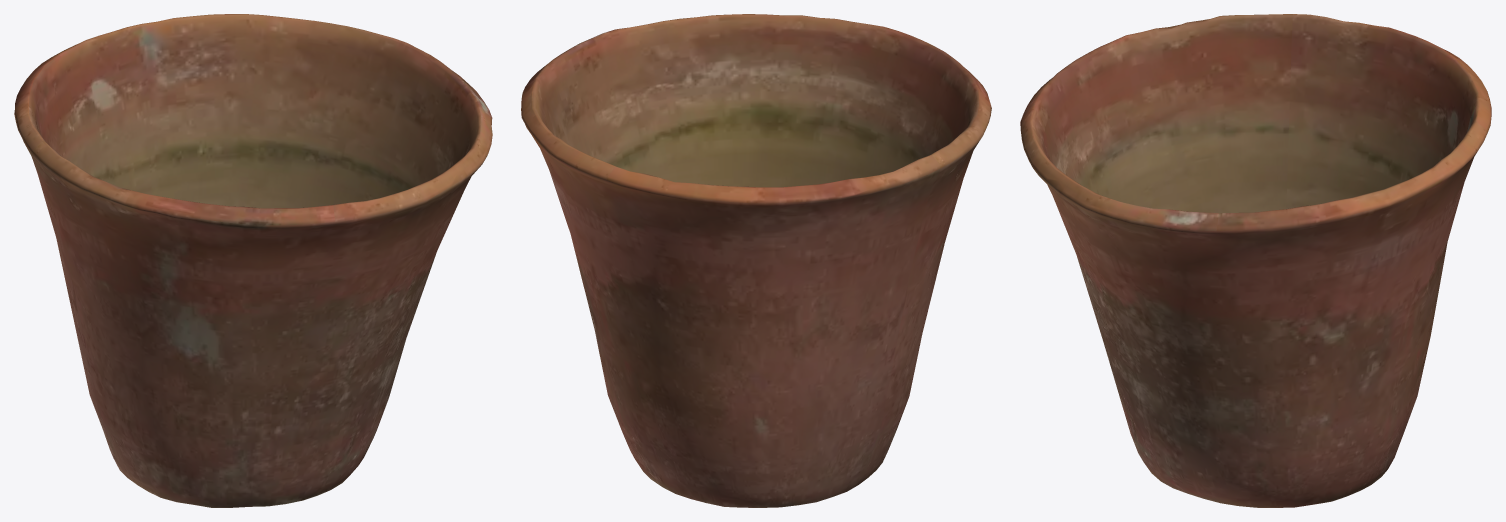
File: planter_pot_clay.glb
3 views of the same model, side by side, from view 1: azimuth 30°, elevation 25°; view 2: azimuth 150°, elevation 25°; view 3: azimuth 270°, elevation 25° (orthographic).
Visible parts, largest first — view 1: planter_pot_clay; view 2: planter_pot_clay; view 3: planter_pot_clay.
Part boxes in pixels (x1=…): planter_pot_clay: x1=14, y1=14, x2=492, y2=507; planter_pot_clay: x1=521, y1=14, x2=991, y2=507; planter_pot_clay: x1=1020, y1=14, x2=1491, y2=507.
Bounding box in the file's own units: 0.266 × 0.2219 × 0.2635.
Materials: 1 (1 with a texture image).
